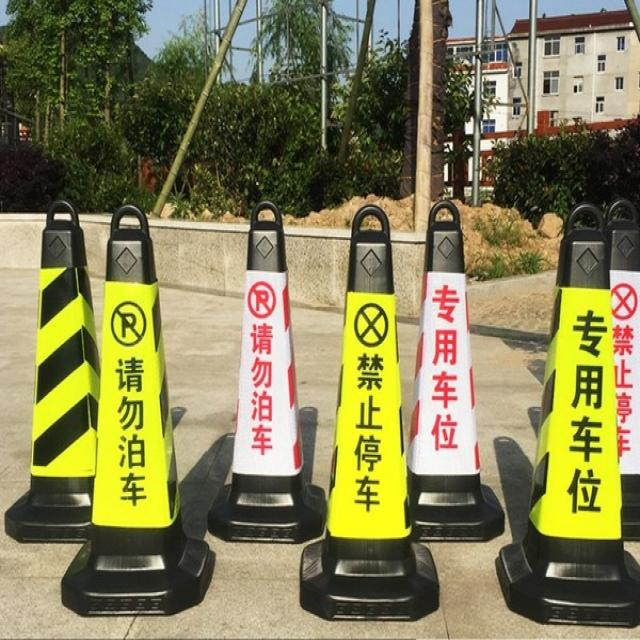pole: (463, 0, 487, 199), (314, 0, 332, 147)
reflective_cone: (495, 202, 639, 628), (61, 203, 209, 615), (296, 208, 442, 621), (201, 197, 320, 543), (408, 197, 502, 538), (9, 200, 94, 536)
